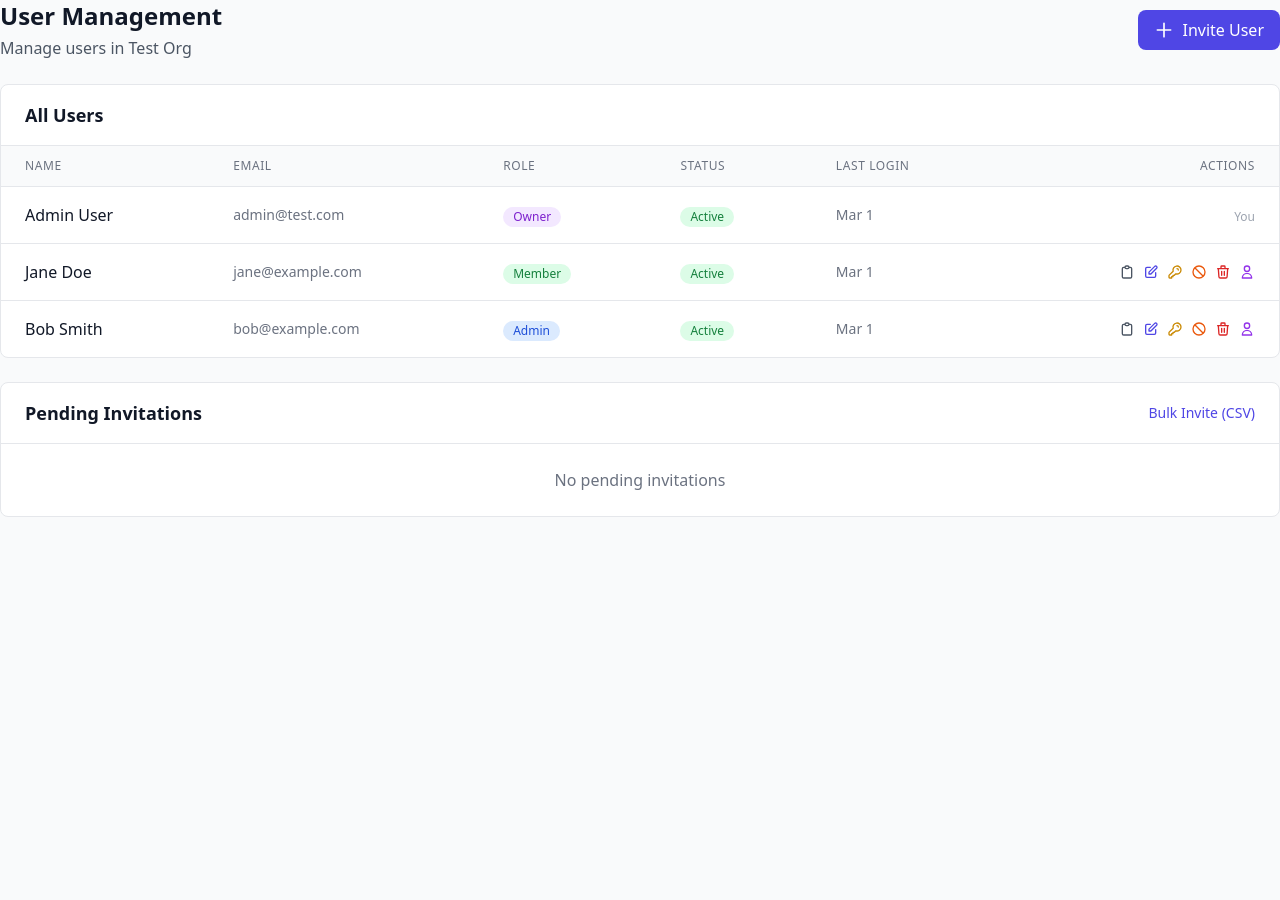
Scenario: UserManagement page › Invite User button and modal › opens invite modal on click
What coordinates should you click on to do the following:
click the button "Invite User"
I would click on:
 (1209, 30)
Its box is [1138,10,1279,50].
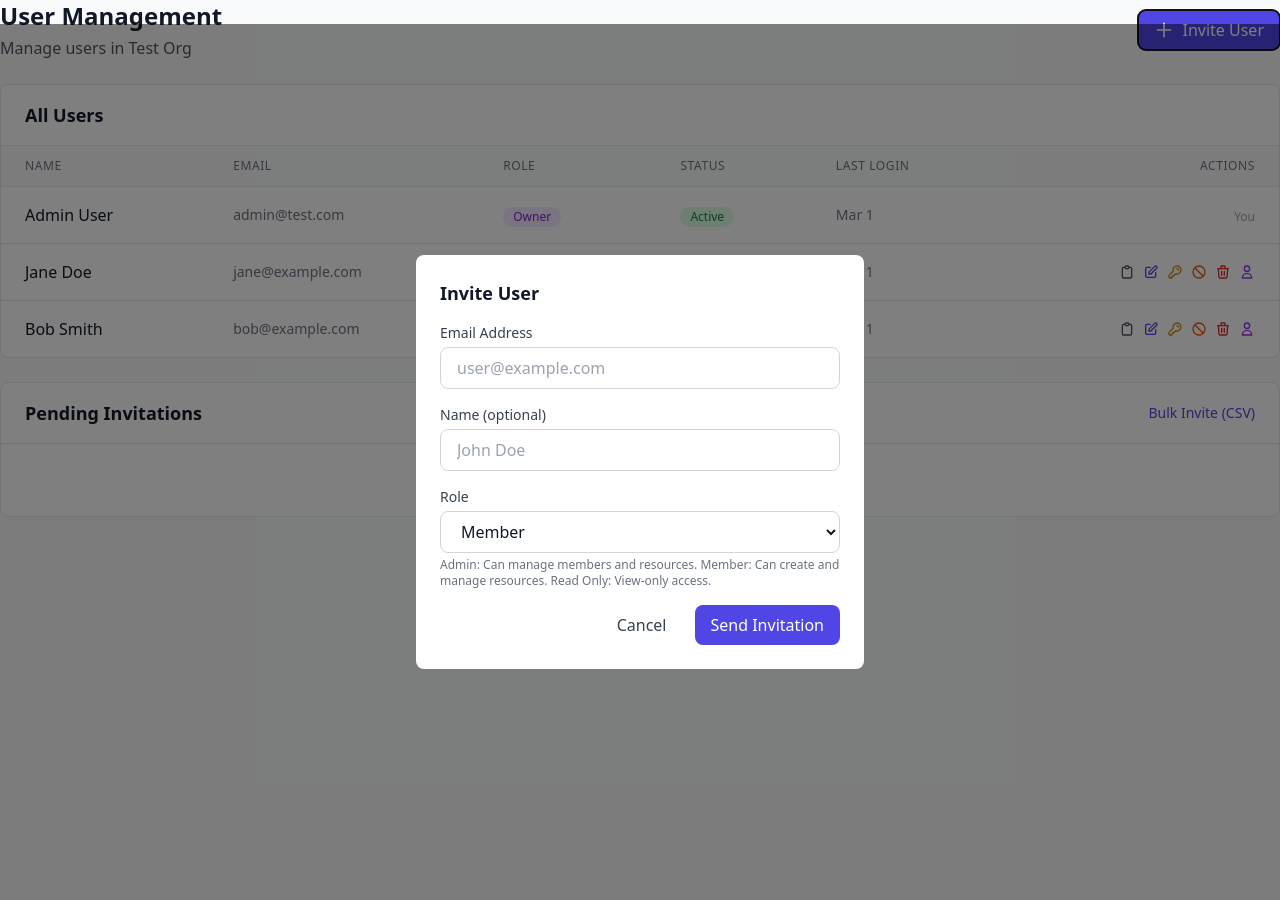
Check: the heading "Invite User" is shown, box [440,281,539,305]
Check: the field labelled "Email Address" is shown, box [440,347,840,389]
